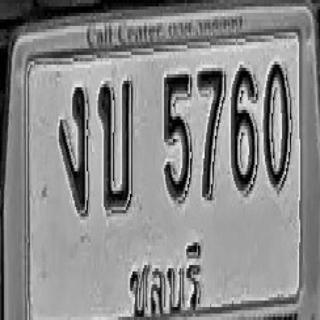A07: (58, 86, 89, 215)
A26: (98, 78, 133, 210)
N00: (264, 60, 291, 189)
N05: (164, 71, 192, 200)
N06: (231, 65, 257, 191)
N07: (198, 66, 225, 199)
P13: (126, 236, 204, 320)
